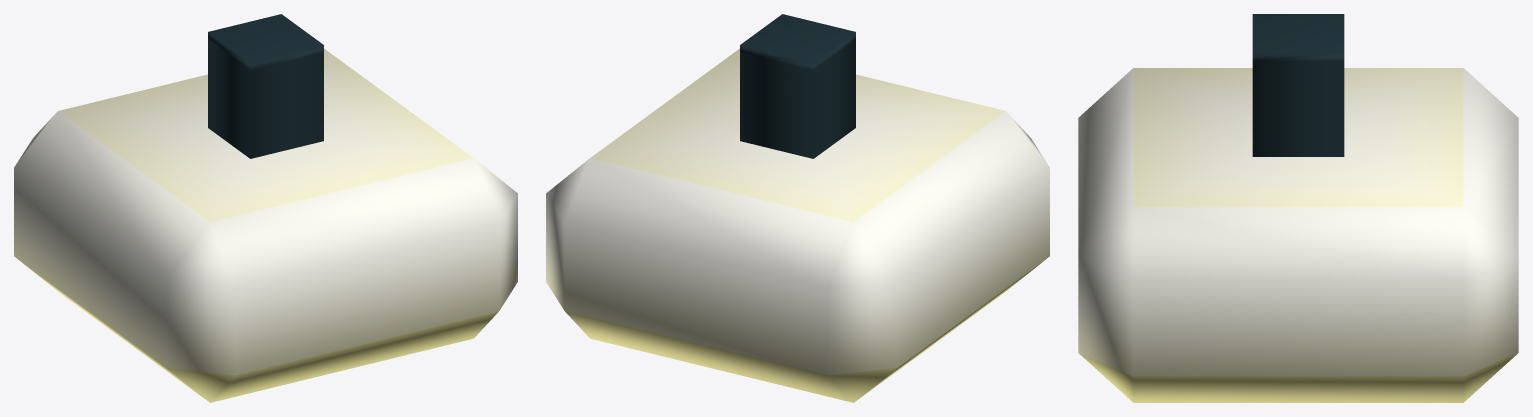
The model's file is candle_big_3.fbx.
3 renders of one model, left to right at view 1: azimuth 30°, elevation 25°; view 2: azimuth 150°, elevation 25°; view 3: azimuth 270°, elevation 25°, orthographic. The views are drawn at different scales.
Visible parts, largest first — view 1: candle_big_3; view 2: candle_big_3; view 3: candle_big_3.
Part boxes in pixels (x1,y1,x2,y2): candle_big_3: (14,14,517,402); candle_big_3: (546,14,1049,402); candle_big_3: (1078,14,1518,402).
Size of the model in its own units: 39.91 by 30 by 39.91.
Materials: 1 (1 with a texture image).
